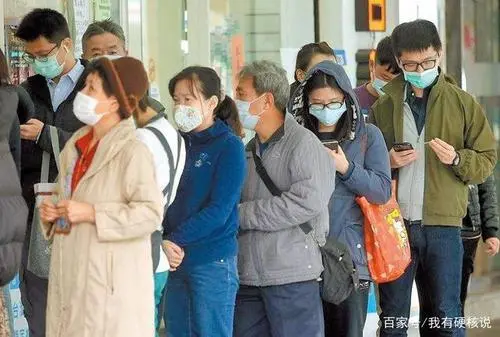withmask: (70, 54, 152, 131), (231, 60, 294, 140), (12, 8, 76, 80), (164, 64, 227, 135), (300, 64, 355, 131), (391, 24, 446, 90)
